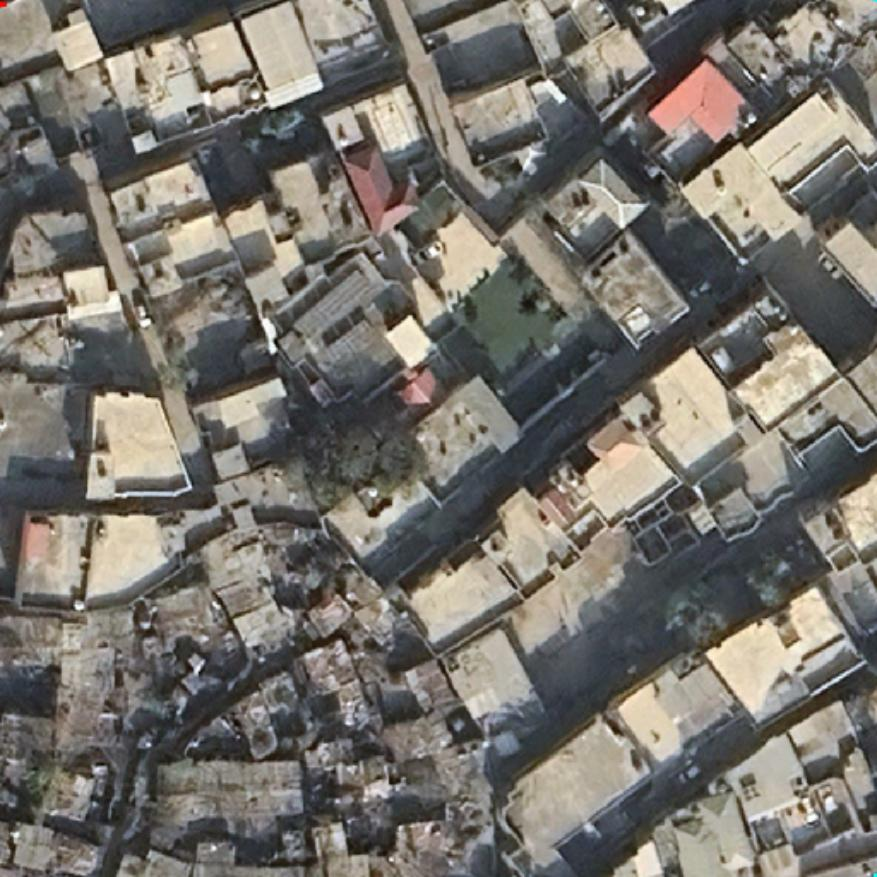Solarpanel: (289, 265, 383, 343), (318, 317, 379, 368)
